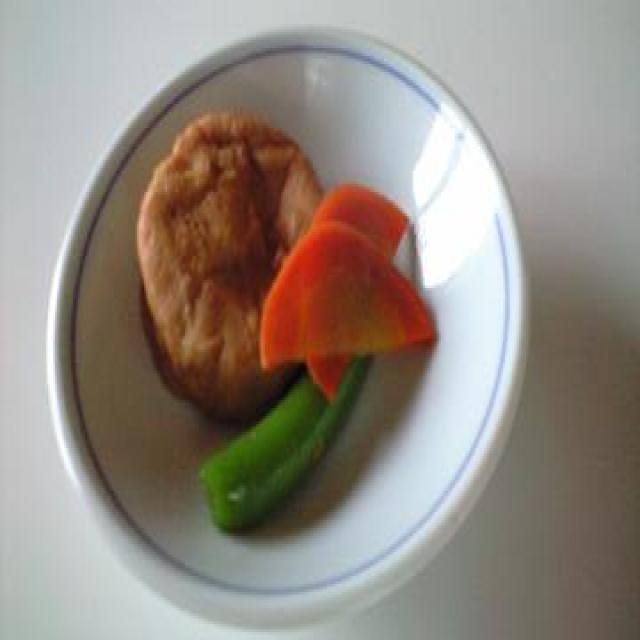熟制海鲜: (106, 40, 442, 411)
